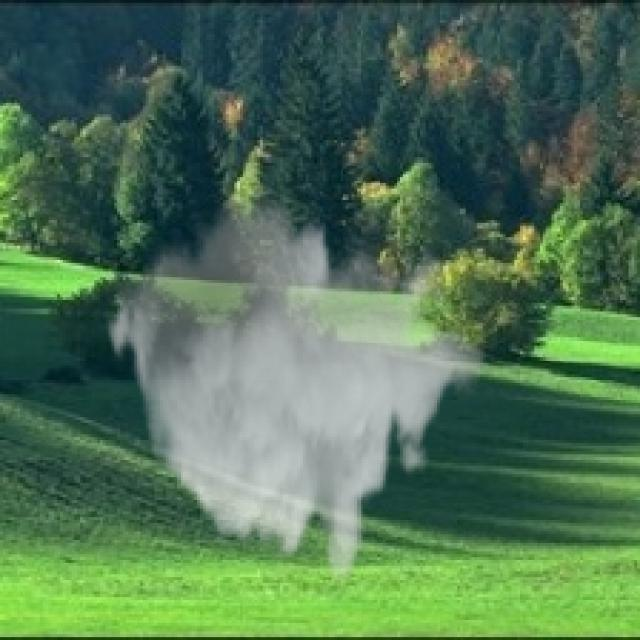smoke: (103, 174, 486, 586)
